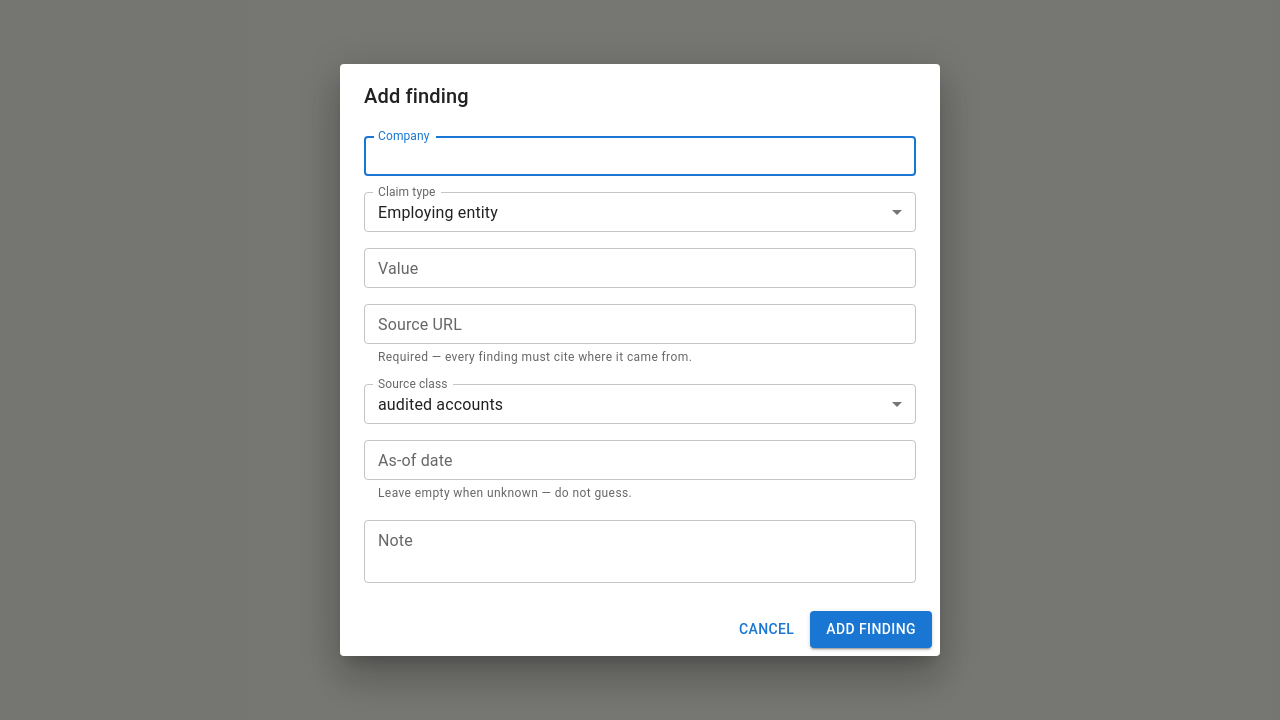
Scenario: FindingDialog › shows a server error inline and stays open
This screenshot has width=1280, height=720.
Type "Globex" into the dropdown labelled "Company" at [638, 156], box [370,142,907,170]
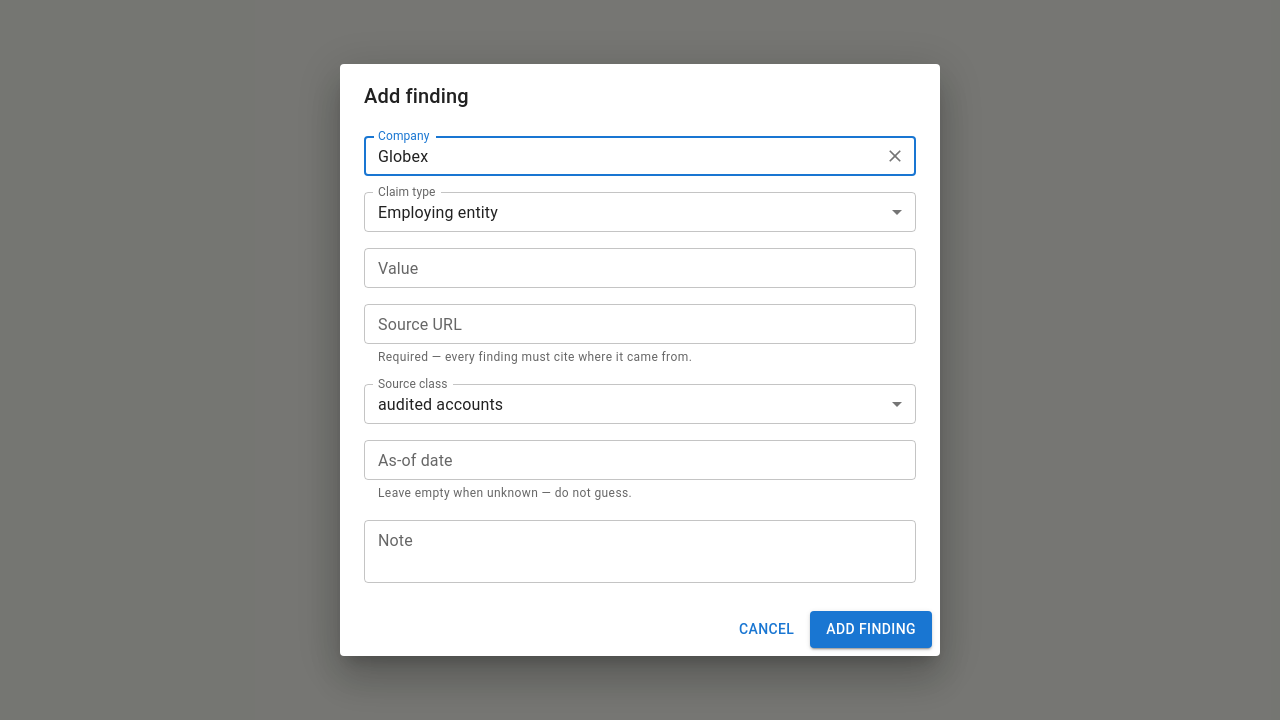
Type "x" into the field labelled "Value" at [640, 268], box [364,248,916,288]
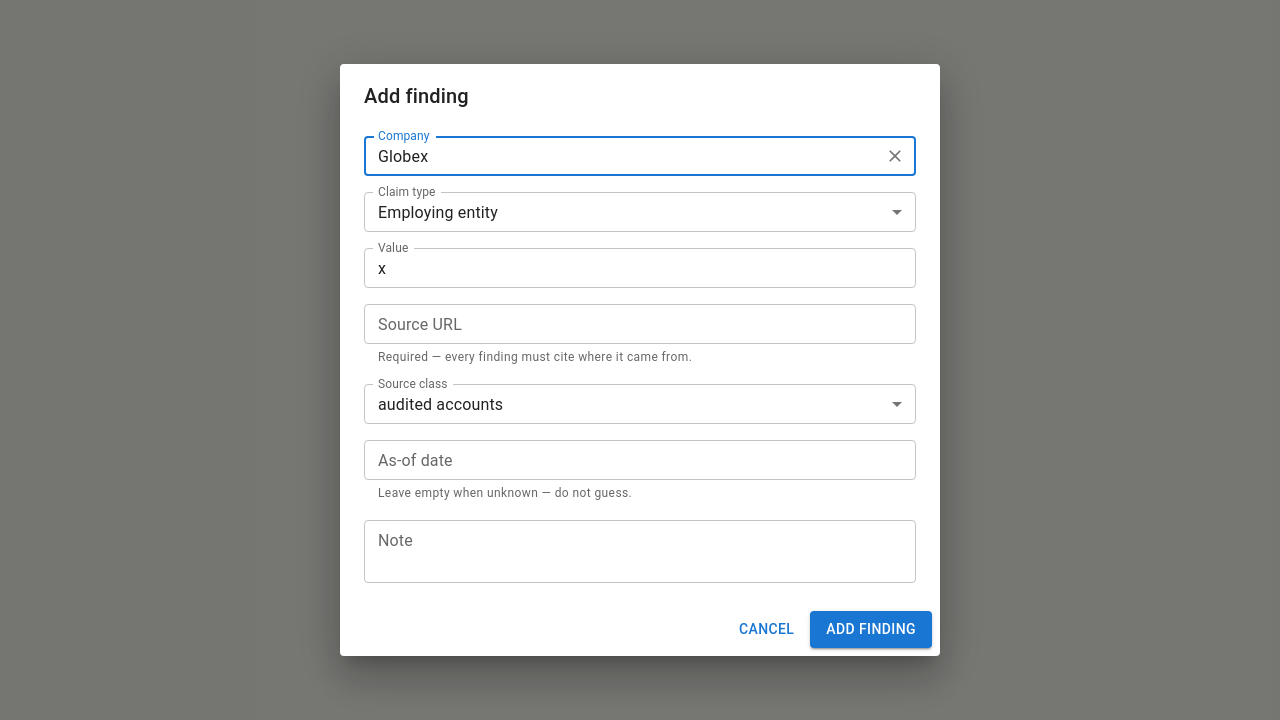
Type "https://g.example/x" into the field labelled "Source URL" at [640, 324], box [364,304,916,344]
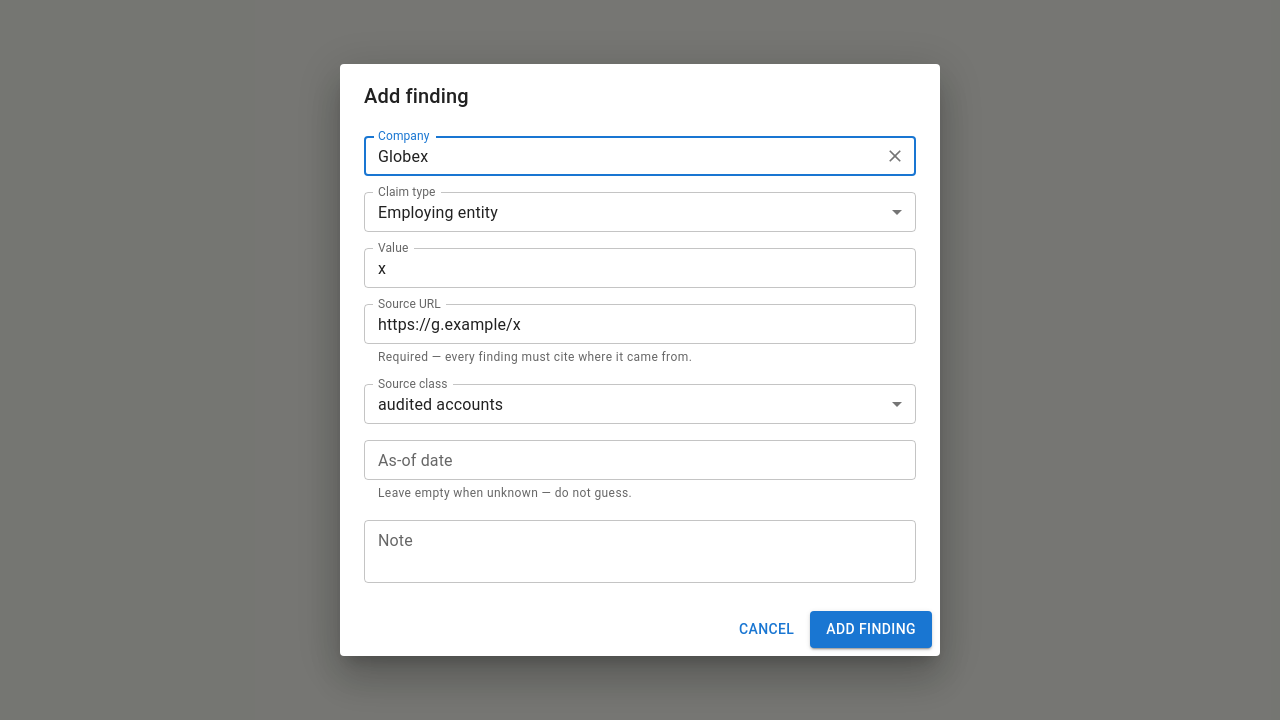
Click the button "Add finding" at [871, 629], box [810,611,932,648]
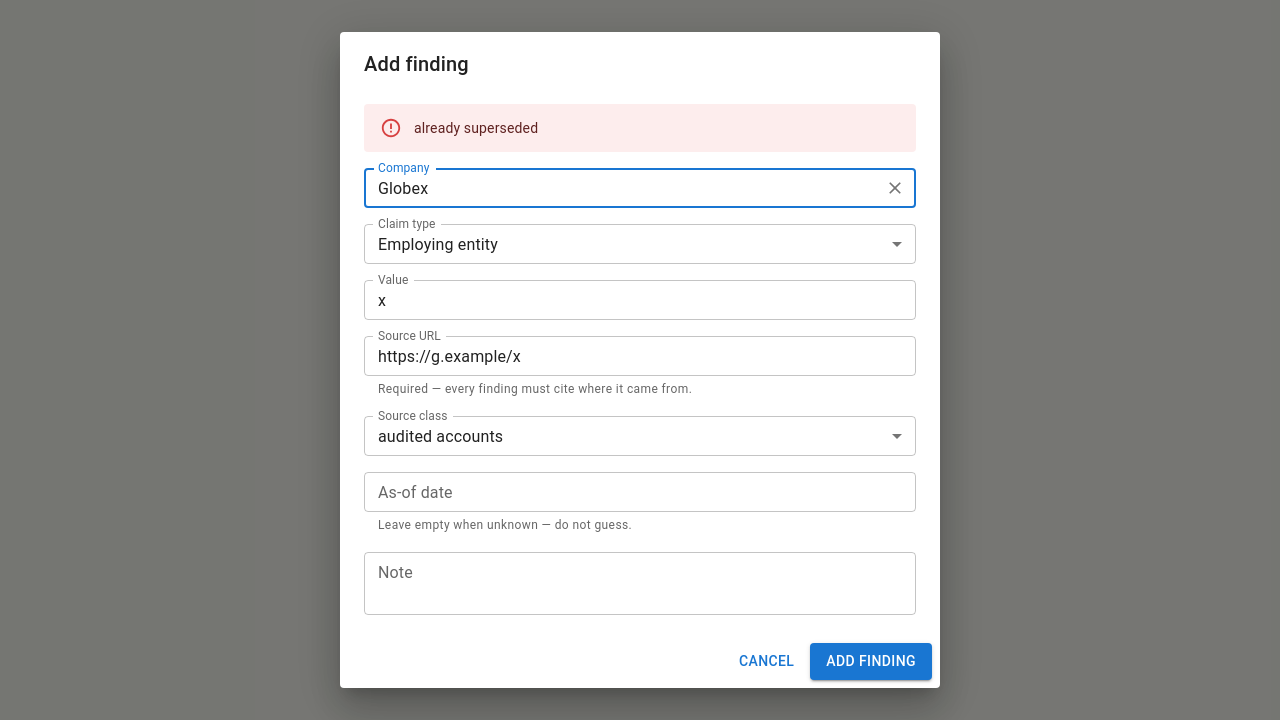
Check: the text "already superseded" is shown, box [414,120,538,136]
